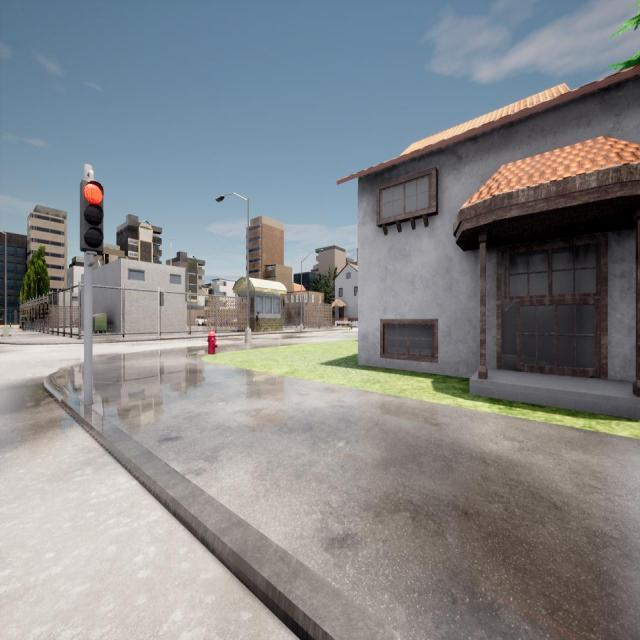Pedestrian: (20, 311, 28, 331), (254, 310, 260, 330), (350, 320, 353, 331)
Vehicle: (195, 315, 208, 327)
traffic_light: (80, 180, 104, 254)
